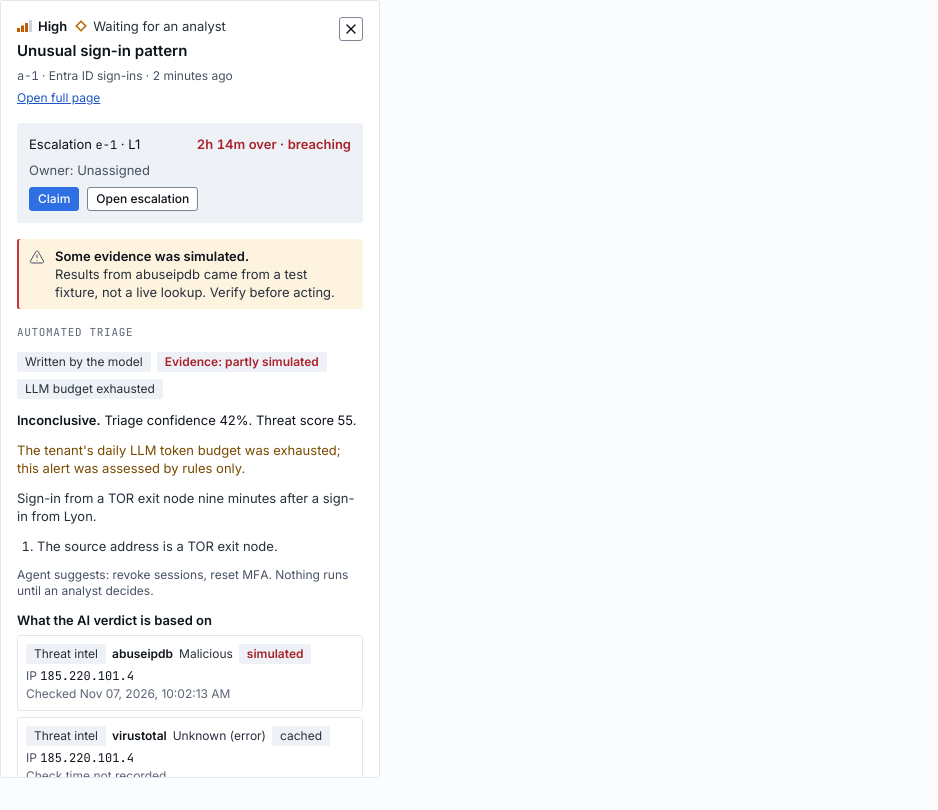
Scenario: alert panel escalation › reports a claim conflict
Click the button "Claim" at (54, 199), box x1=29 y1=187 x2=79 y2=211
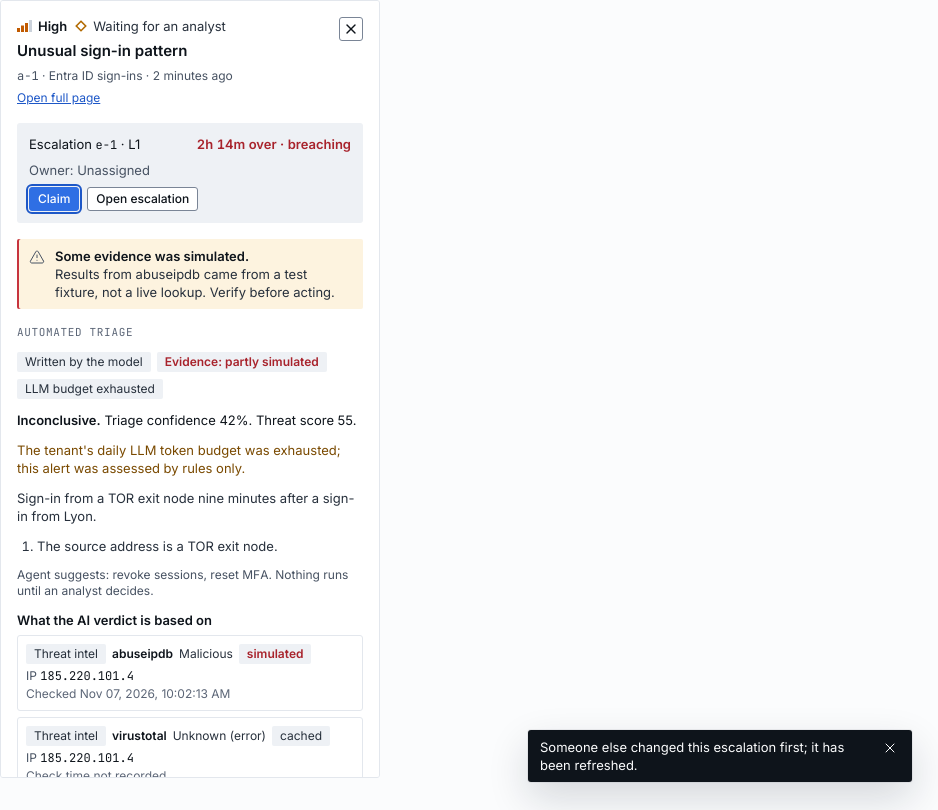
expect the text "Someone else changed this escalation first" is shown: met, box x1=540 y1=739 x2=844 y2=773
